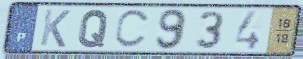3: (194, 10, 226, 50)
4: (234, 9, 262, 52)
9: (155, 8, 189, 52)
C: (112, 8, 153, 50)
K: (38, 8, 73, 49)
Q: (76, 8, 111, 49)
